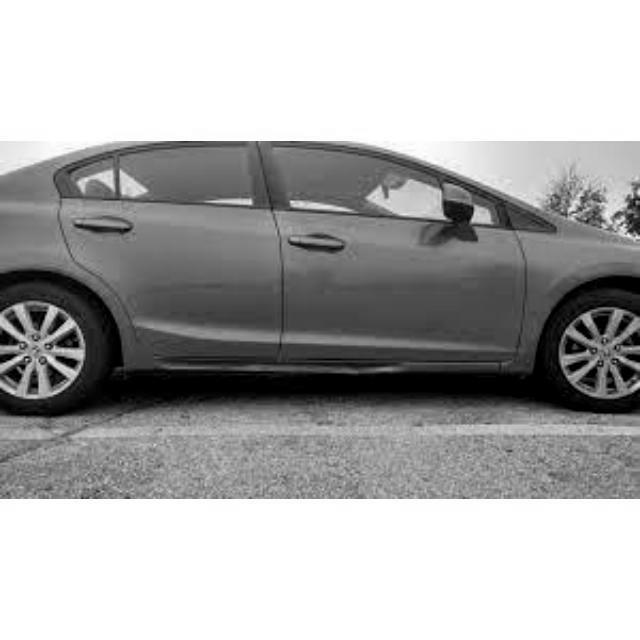Runningboard-Damage: (140, 346, 425, 378)
